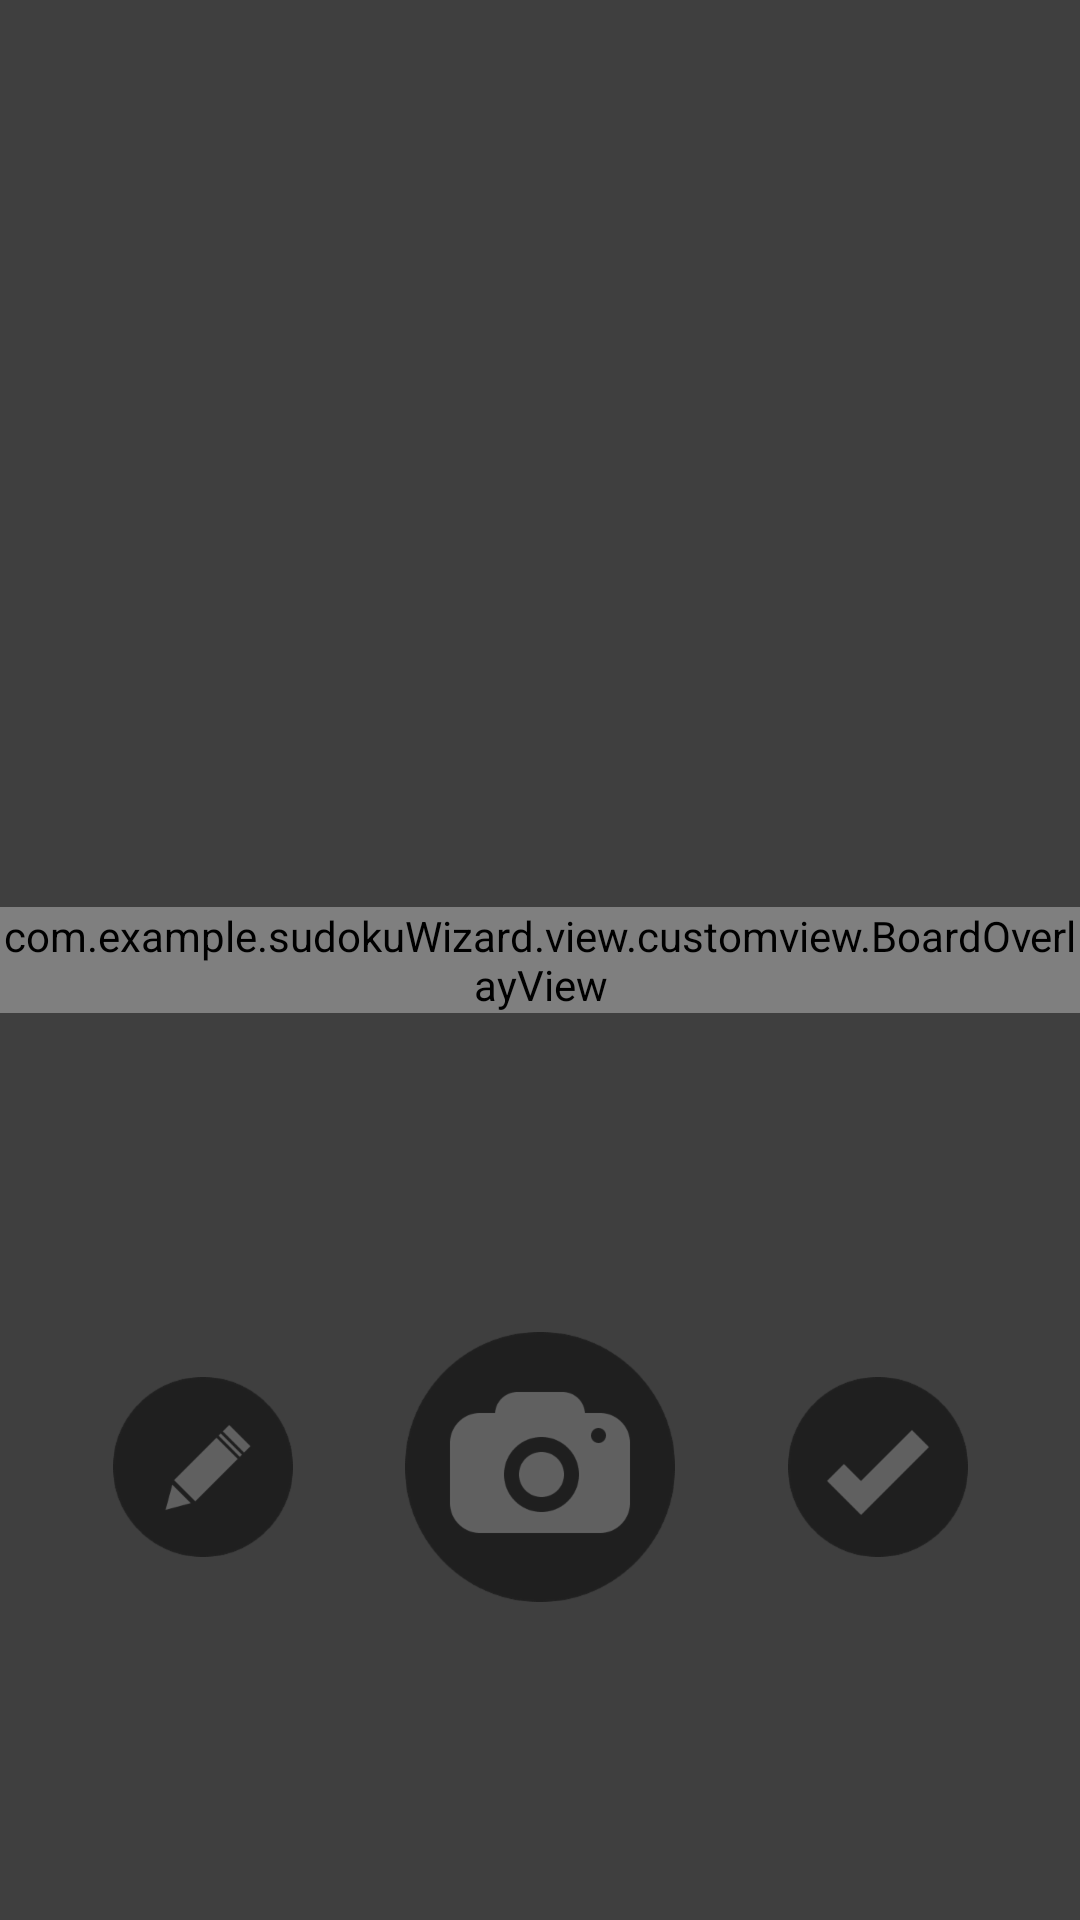

Where icons sit on this 1080 x 1920 app screen, as (x1, y1, x2, y2):
scanboard camera states: (405, 1332, 675, 1602)
scanboard confirm states: (788, 1377, 968, 1557)
scanboard edit states: (113, 1377, 293, 1557)
